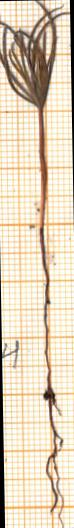flower: (0, 0, 65, 110)
root: (30, 226, 70, 528)
stem: (30, 111, 54, 227)
